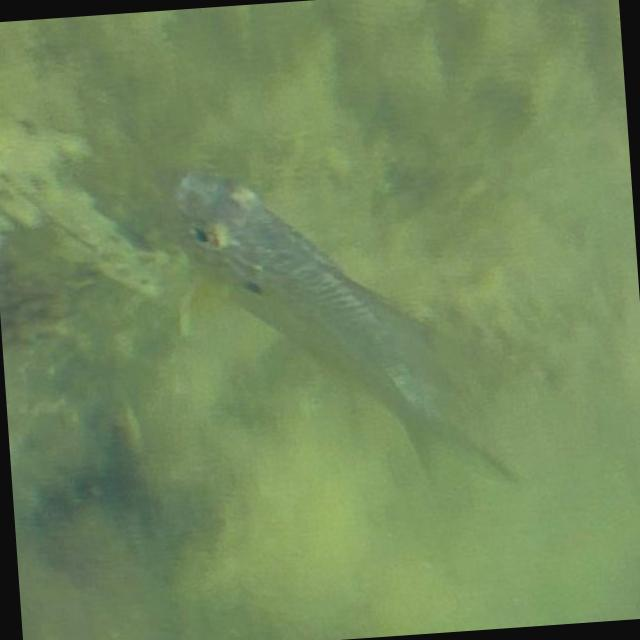Gunes Levregi: (155, 141, 518, 500)
